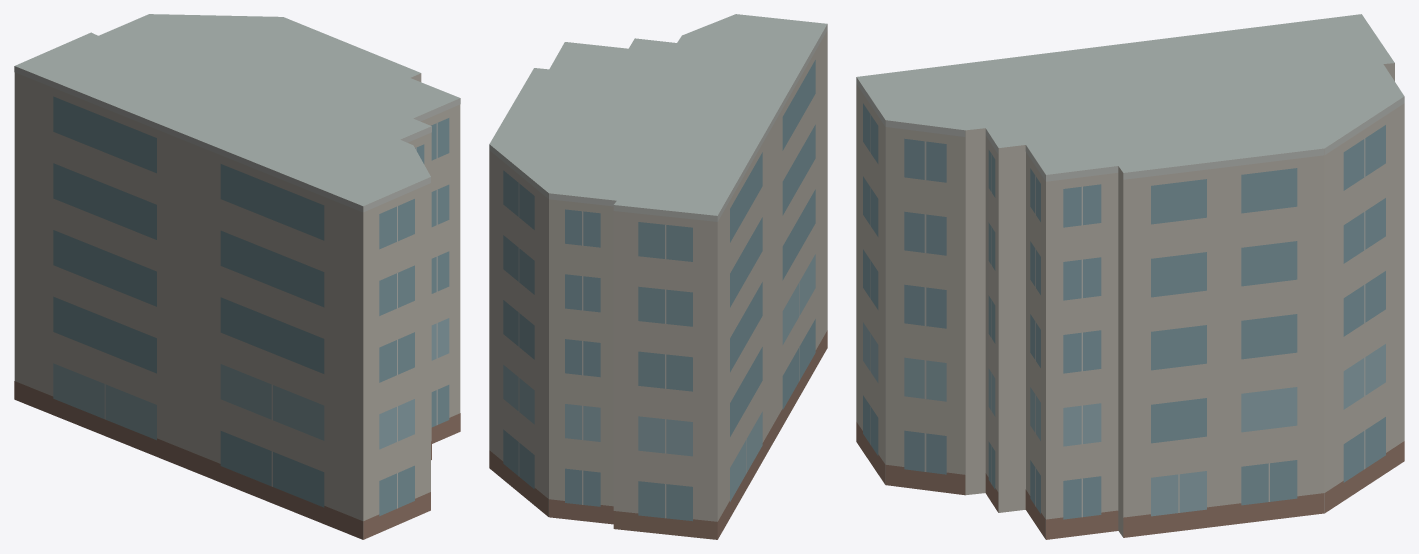
Rendered from survey-upis-32873937.glb.
3 renders of one model, left to right at view 1: azimuth 30°, elevation 25°; view 2: azimuth 150°, elevation 25°; view 3: azimuth 270°, elevation 25°, orthographic. The views are drawn at different scales.
Visible parts, largest first — view 1: survey-upis-32873937.tmp; view 2: survey-upis-32873937.tmp; view 3: survey-upis-32873937.tmp.
Part boxes in pixels (<box>): survey-upis-32873937.tmp: <box>14,14,460,539</box>; survey-upis-32873937.tmp: <box>489,14,827,539</box>; survey-upis-32873937.tmp: <box>856,14,1404,539</box>.
Size of the model in its own units: 12.4 by 13.1 by 17.84.
